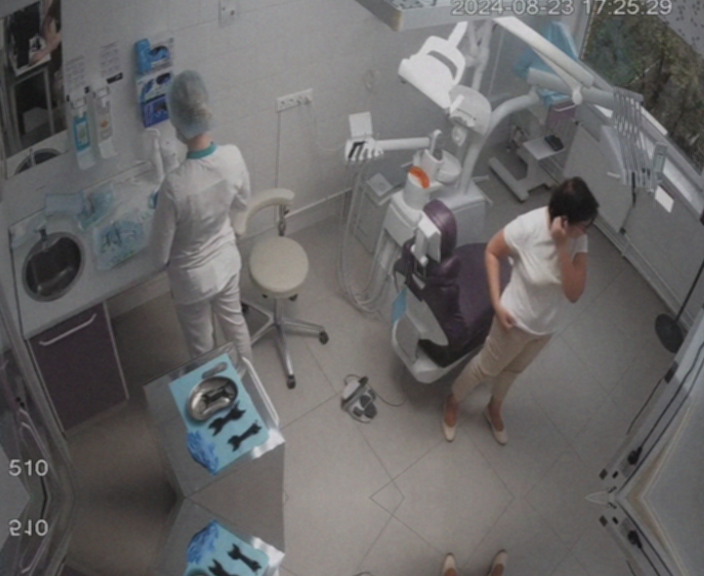Empty: (386, 180, 522, 398)
